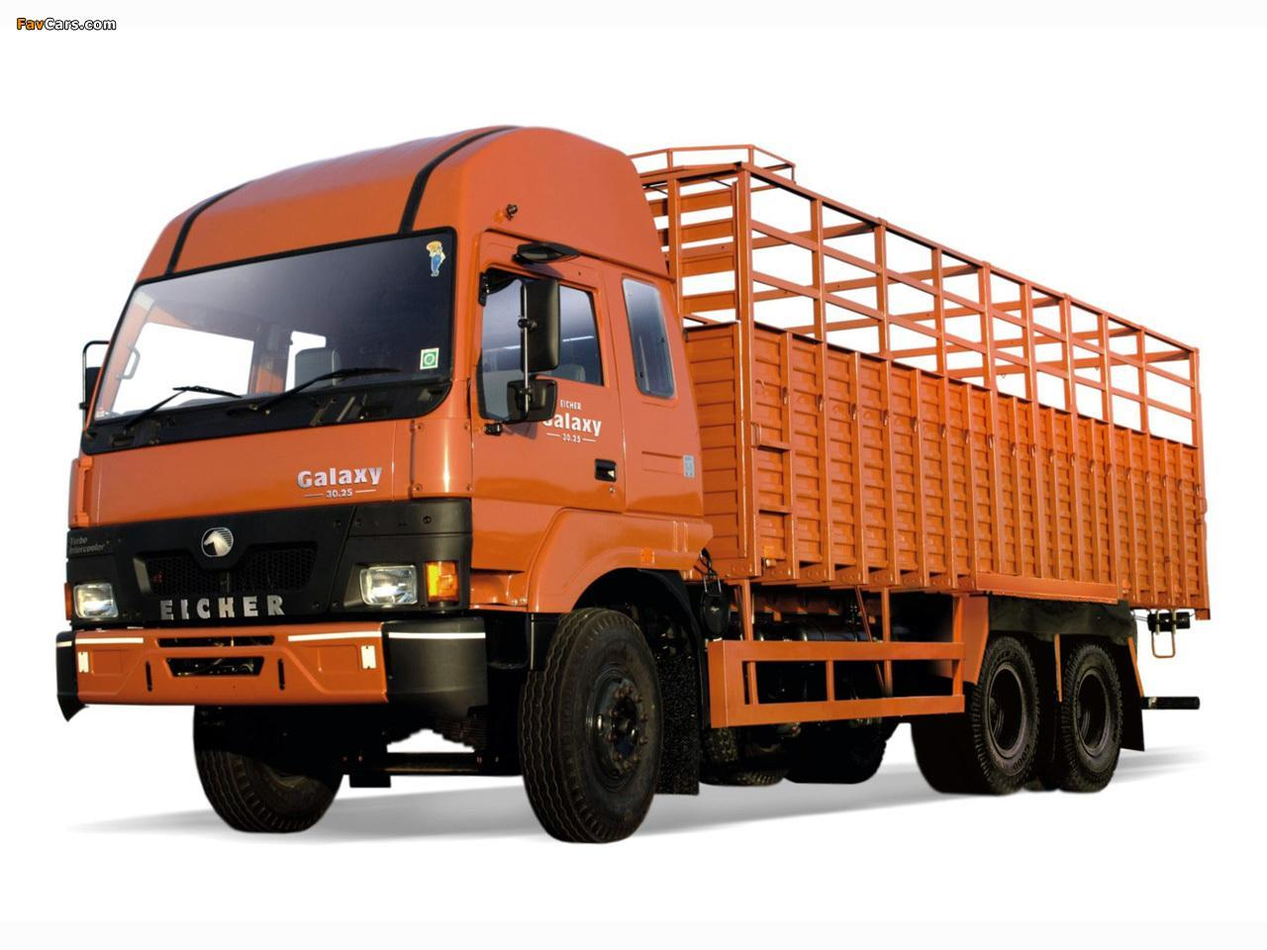truck: (112, 132, 1155, 794)
